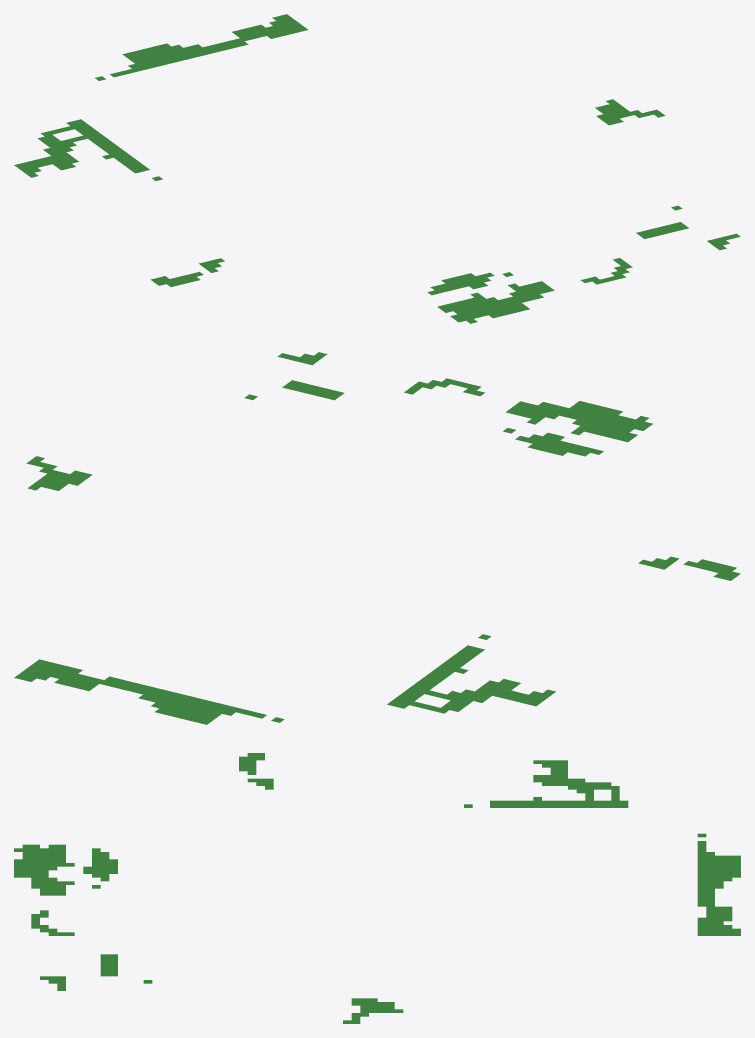
File: Isl-orc2-TreesArea.fbx
3 renders of one model, top to bottom at view 1: azimuth 30°, elevation 25°; view 2: azimuth 150°, elevation 25°; view 3: azimuth 270°, elevation 25°, orthographic. The views are drawn at different scales.
Visible parts, largest first — view 1: Isl-orc2-TreesArea; view 2: Isl-orc2-TreesArea; view 3: Isl-orc2-TreesArea.
Boxes of the visible parts, bbox=[...] form: Isl-orc2-TreesArea: bbox=[14, 14, 740, 323]; Isl-orc2-TreesArea: bbox=[14, 352, 740, 724]; Isl-orc2-TreesArea: bbox=[14, 753, 740, 1023].
Size of the model in its own units: 74 by 0 by 84.
